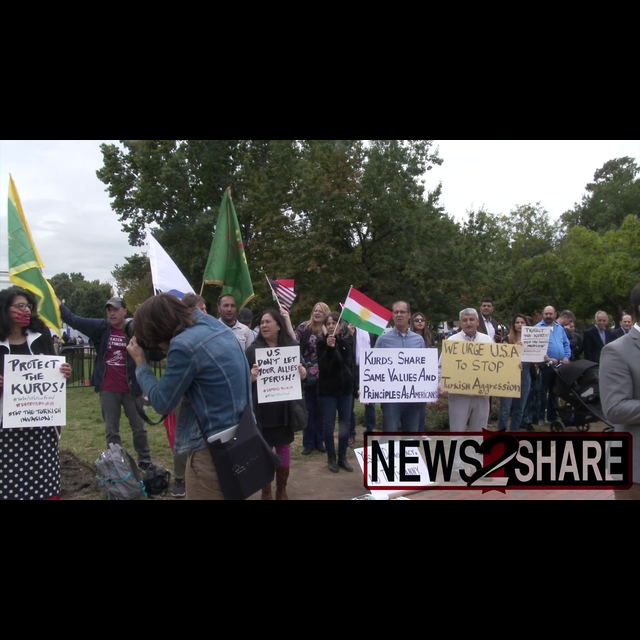IBKY: (340, 284, 394, 337)
